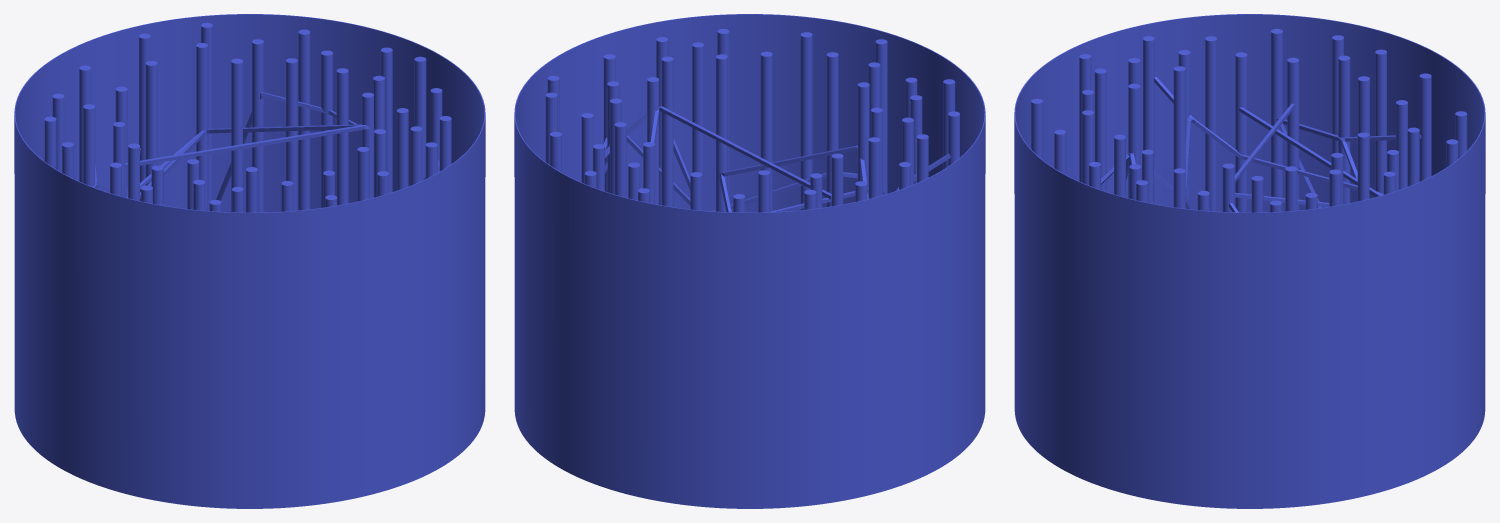
Rendered from BunkerFloor3Collider.fbx.
3 renders of one model, left to right at view 1: azimuth 30°, elevation 25°; view 2: azimuth 150°, elevation 25°; view 3: azimuth 270°, elevation 25°, orthographic.
Visible parts, largest first — view 1: Bunker.011; view 2: Bunker.011; view 3: Bunker.011.
Boxes of the visible parts, x1,y1,x2,y2 form: Bunker.011: (14, 14, 485, 508); Bunker.011: (514, 14, 985, 508); Bunker.011: (1014, 14, 1485, 508).
Bounding box in the file's own units: 22.65 × 15.71 × 22.65.
